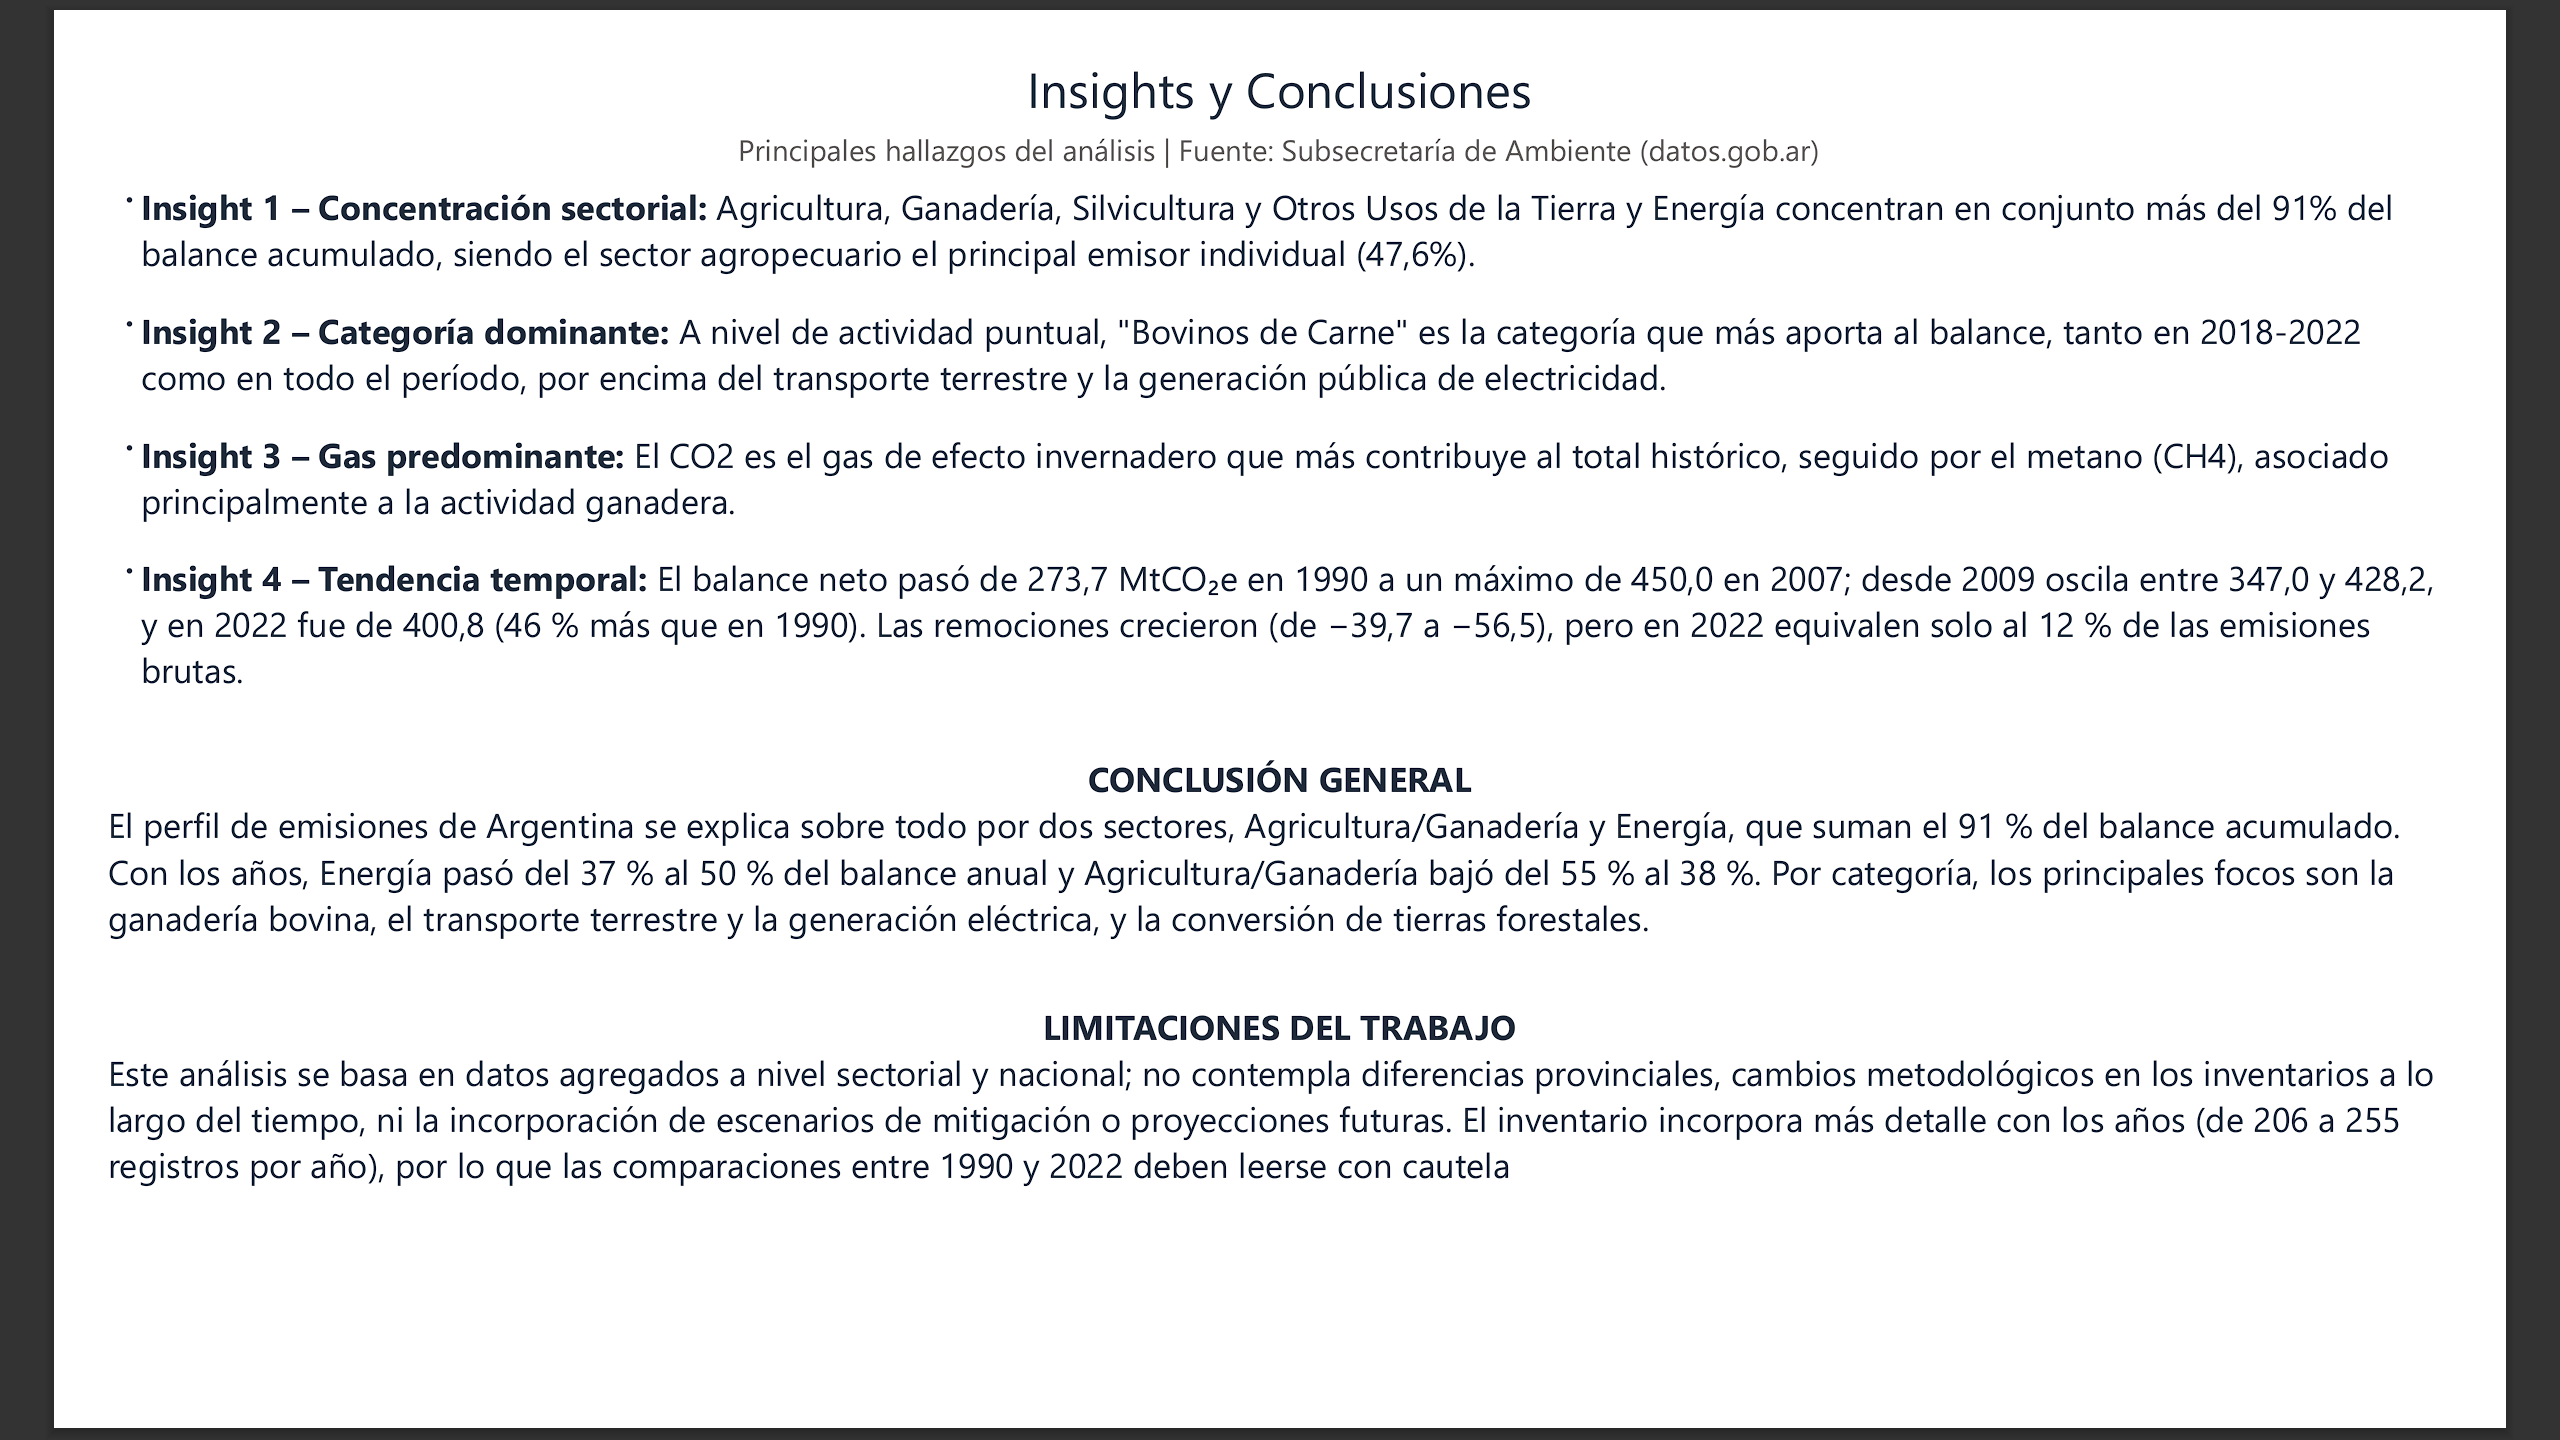

Layout of this report page (visuals, bound fields, positions):
{"tool":"powerbi","page":{"name":"Insights y Conclusiones","canvas":[1280,720],"ordinal":3},"visuals":[{"type":"textbox","title":"Insights y Conclusiones","box":[0,0,1280,64.8],"z":0},{"type":"textbox","box":[0,64.8,1280,655.1],"z":1000}]}

Visuals, with their boxes in screenshot pixels (x1, y1, x2, y2), scaled from the page's 1280x720 canvas onto the 2560x1440 screenshot:
"Insights y Conclusiones" textbox: BBox(0, 0, 2559, 130)
textbox: BBox(0, 130, 2559, 1439)
